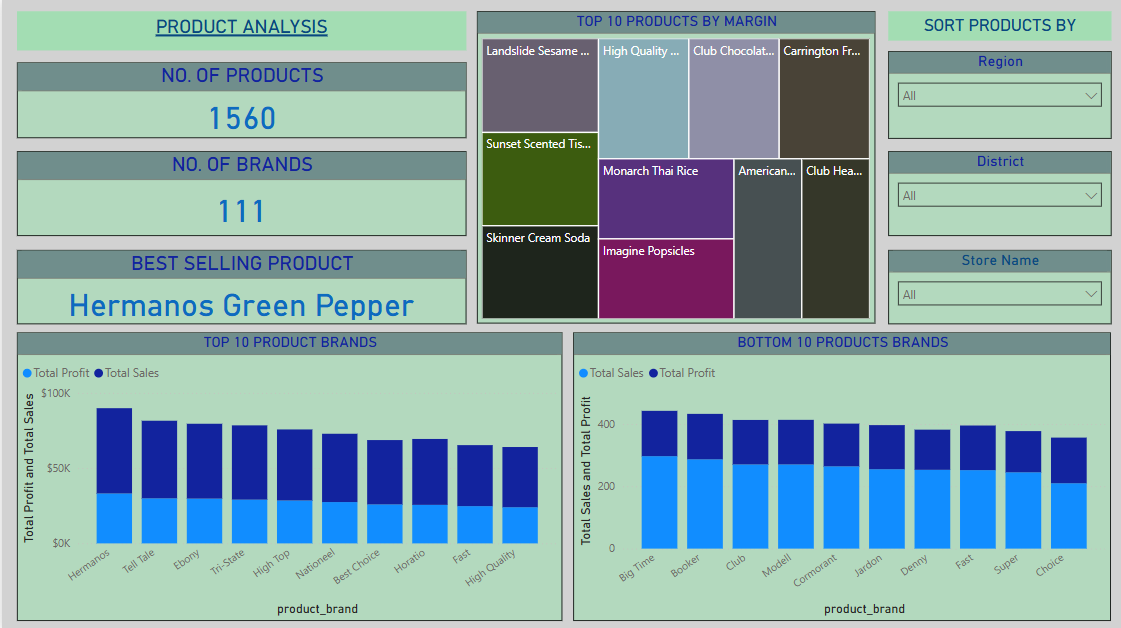

What the dashboard file says about the page in this screenshot:
{"tool":"powerbi","page":{"name":"Product analysis","canvas":[1280,720],"ordinal":4},"visuals":[{"type":"columnChart","title":"BOTTOM 10 PRODUCTS BRANDS","fields":{"Category":["products.product_brand"],"Y":["Transactions _1997.Total Sales","Transactions _1997.Total Profit"]},"box":[653.2,380.1,614.8,329.3],"z":0},{"type":"columnChart","title":"TOP 10 PRODUCT BRANDS","fields":{"Category":["products.product_brand"],"Y":["Transactions _1997.Total Profit","Transactions _1997.Total Sales"]},"box":[16.5,380.1,623,329.3],"z":1000},{"type":"treemap","title":"TOP 10 PRODUCTS BY MARGIN","fields":{"Group":["products.product_name"],"Values":["Sum(products.ProductMargin%)"]},"box":[543.3,13.3,455,356.7],"z":2000},{"type":"slicer","title":"Region","fields":{"Values":["Regions.sales_region"]},"box":[1013.3,58.3,255,100],"z":3000},{"type":"slicer","title":"District","fields":{"Values":["Regions.sales_district"]},"box":[1013.3,173.3,255,96.7],"z":4000},{"type":"slicer","title":"Store Name","fields":{"Values":["Market_Stores.store_name"]},"box":[1013.3,285,255,85],"z":5000},{"type":"textbox","box":[1013.3,13.3,255,33.3],"z":6000},{"type":"card","title":"BEST SELLING PRODUCT","fields":{"Values":["Min(products.product_name)"]},"box":[16.7,285,513.3,85],"z":7000},{"type":"textbox","box":[16.7,13.3,513.3,45],"z":8000},{"type":"card","title":"NO. OF BRANDS","fields":{"Values":["Count(products.product_brand)"]},"box":[16.7,173.3,513.3,96.7],"z":9000},{"type":"card","title":"NO. OF PRODUCTS","fields":{"Values":["Count(products.product_name)"]},"box":[16.7,71.7,513.3,86.7],"z":10000}]}

Visuals, with their boxes in screenshot pixels (x1, y1, x2, y2), scaled from the page's 1280x720 canvas onto the 1121x628 screenshot:
"BOTTOM 10 PRODUCTS BRANDS" columnChart: bbox=[572, 332, 1110, 619]
"TOP 10 PRODUCT BRANDS" columnChart: bbox=[14, 332, 560, 619]
"TOP 10 PRODUCTS BY MARGIN" treemap: bbox=[476, 12, 874, 323]
"Region" slicer: bbox=[887, 51, 1111, 138]
"District" slicer: bbox=[887, 151, 1111, 236]
"Store Name" slicer: bbox=[887, 249, 1111, 323]
textbox: bbox=[887, 12, 1111, 41]
"BEST SELLING PRODUCT" card: bbox=[15, 249, 464, 323]
textbox: bbox=[15, 12, 464, 51]
"NO. OF BRANDS" card: bbox=[15, 151, 464, 236]
"NO. OF PRODUCTS" card: bbox=[15, 63, 464, 138]
